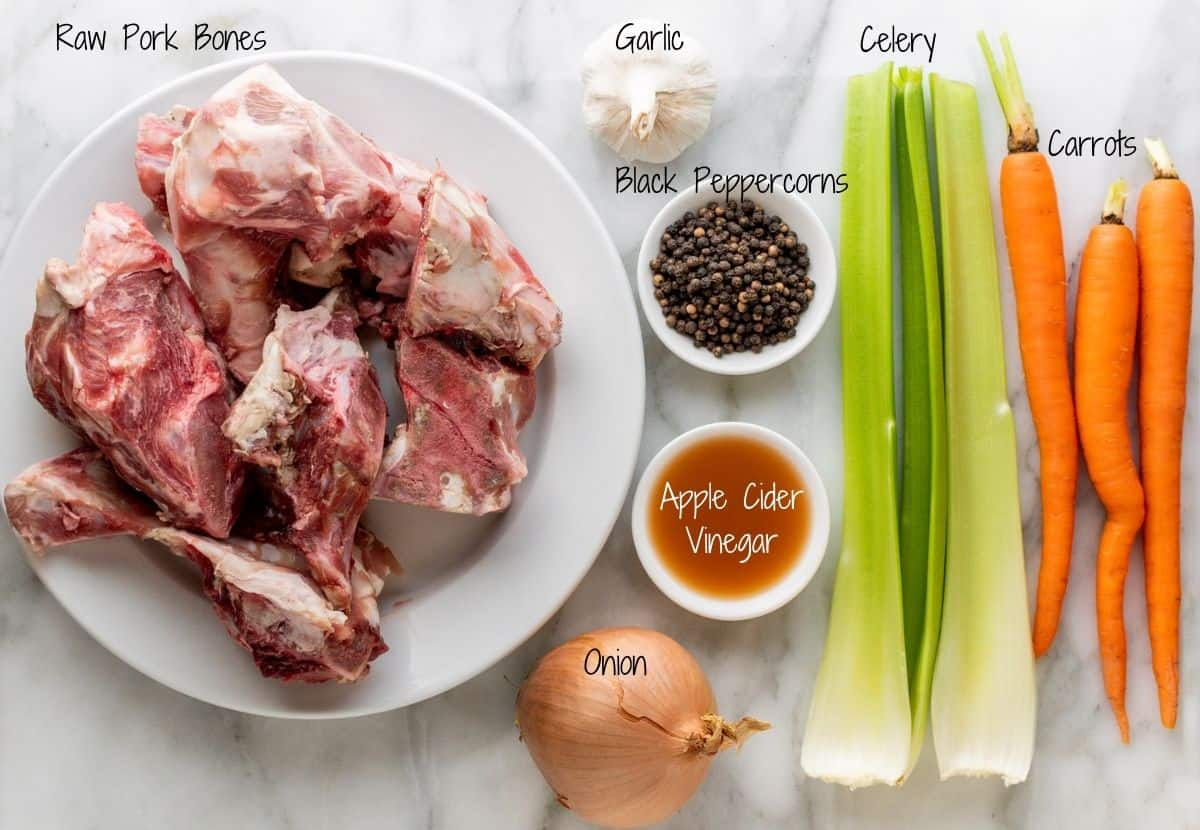Carrot: (969, 11, 1098, 676), (1063, 188, 1158, 766), (1111, 140, 1200, 743)
Onion: (510, 621, 768, 830)
Pork: (1, 51, 560, 703)
